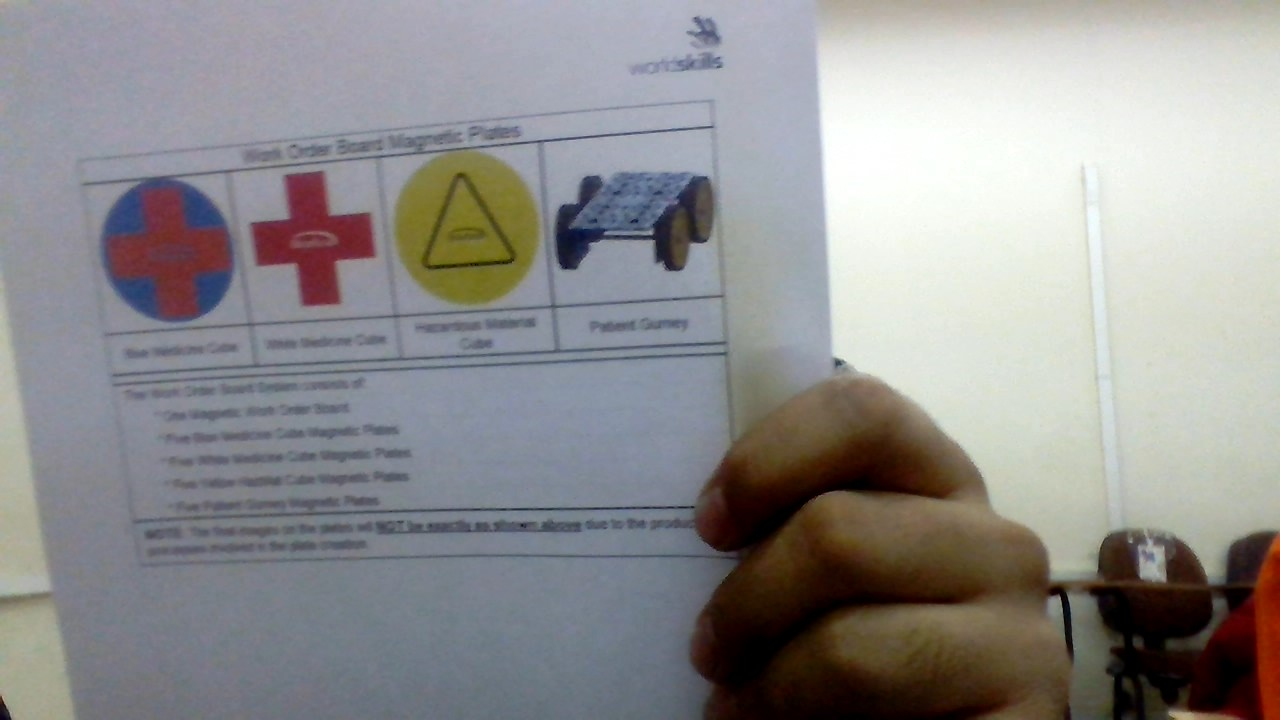bmc: (79, 176, 242, 326)
hmc: (393, 139, 537, 304)
pg: (543, 140, 720, 300)
wmc: (249, 159, 376, 326)
